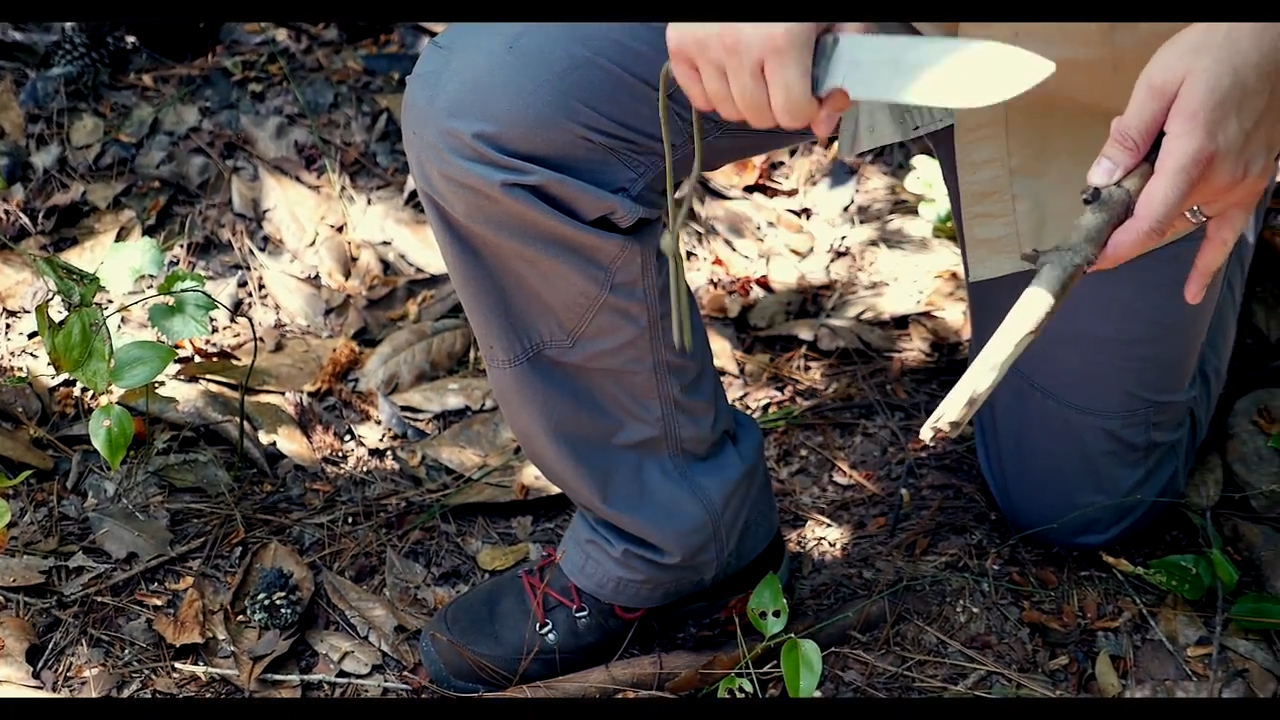knife: (661, 25, 1063, 141)
